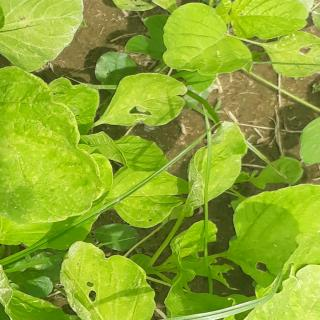karat_putih: (4, 65, 106, 225), (61, 240, 154, 320), (182, 117, 248, 216), (245, 261, 320, 319), (0, 259, 69, 319)
